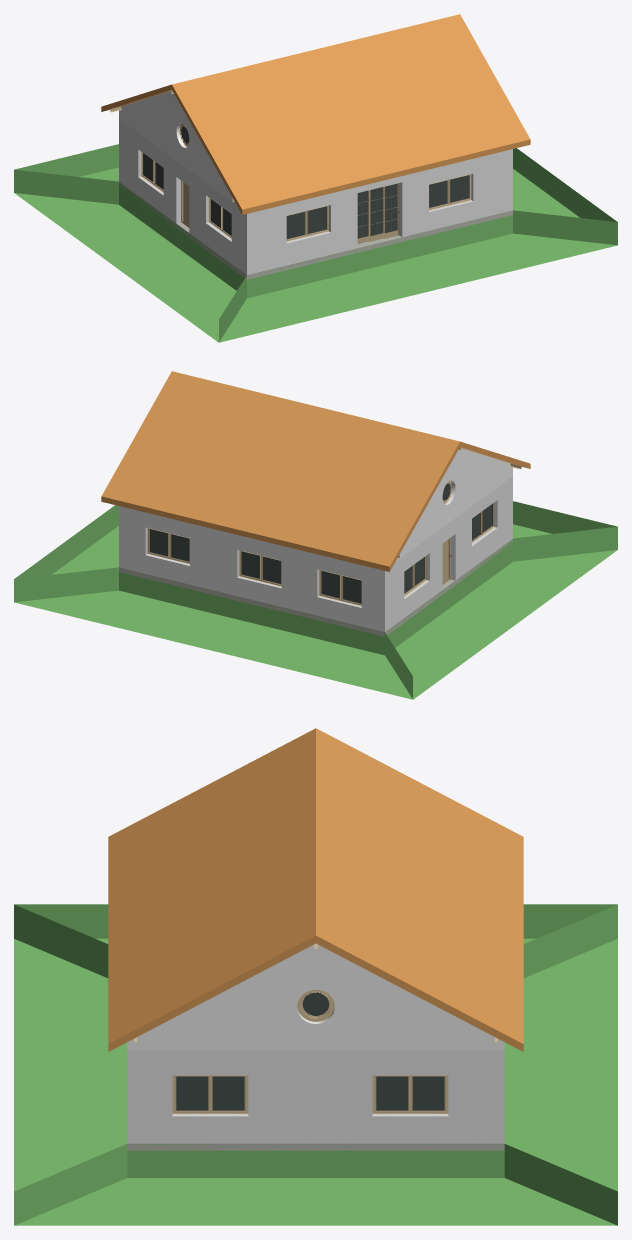
File: sample.glb
3 renders of one model, top to bottom at view 1: azimuth 30°, elevation 25°; view 2: azimuth 150°, elevation 25°; view 3: azimuth 270°, elevation 25°, orthographic. The views are drawn at different scales.
Visible parts, largest first — view 1: 59753_Dach2, 389_Gelaende, 27421_WandExtERDG4, 21966_WandExtERDG1, 60012_WandExtOG1, 34509_Bodenplatte, 31079_Terrassentuer, 27833_EGFenster4, 28113_EGFenster5, 23944_EGFenster7, 23024_EGFenster6, 59553_Dach1; view 2: 59553_Dach1, 389_Gelaende, 32407_WandExtERDG2, 21966_WandExtERDG1, 60012_WandExtOG1, 34509_Bodenplatte, 33109_EGFenster2, 32829_EGFenster1, 33389_EGFenster3, 23024_EGFenster6, 23944_EGFenster7, 59753_Dach2; view 3: 389_Gelaende, 59753_Dach2, 59553_Dach1, 31470_WandExtERDG3, 67828_WandExtOG3, 32098_EGFenster9, 31818_EGFenster8, 34509_Bodenplatte, 74280_OGFenster1.
Part boxes in pixels (left/top/right/bottom): 59753_Dach2: left=172, top=14, right=530, bottom=214; 389_Gelaende: left=14, top=144, right=617, bottom=342; 27421_WandExtERDG4: left=247, top=149, right=512, bottom=274; 21966_WandExtERDG1: left=119, top=119, right=246, bottom=274; 60012_WandExtOG1: left=119, top=91, right=236, bottom=204; 34509_Bodenplatte: left=119, top=182, right=512, bottom=279; 31079_Terrassentuer: left=357, top=183, right=399, bottom=243; 27833_EGFenster4: left=286, top=205, right=329, bottom=241; 28113_EGFenster5: left=429, top=174, right=471, bottom=210; 23944_EGFenster7: left=208, top=197, right=231, bottom=238; 23024_EGFenster6: left=141, top=151, right=163, bottom=192; 59553_Dach1: left=101, top=84, right=171, bottom=111; 59553_Dach1: left=101, top=371, right=459, bottom=571; 389_Gelaende: left=14, top=501, right=617, bottom=699; 32407_WandExtERDG2: left=119, top=506, right=384, bottom=631; 21966_WandExtERDG1: left=385, top=476, right=512, bottom=631; 60012_WandExtOG1: left=395, top=448, right=512, bottom=561; 34509_Bodenplatte: left=119, top=539, right=512, bottom=636; 33109_EGFenster2: left=239, top=550, right=281, bottom=586; 32829_EGFenster1: left=319, top=570, right=361, bottom=605; 33389_EGFenster3: left=147, top=528, right=189, bottom=564; 23024_EGFenster6: left=404, top=555, right=427, bottom=596; 23944_EGFenster7: left=472, top=503, right=494, bottom=542; 59753_Dach2: left=460, top=441, right=530, bottom=468; 389_Gelaende: left=14, top=904, right=617, bottom=1225; 59753_Dach2: left=108, top=728, right=315, bottom=1051; 59553_Dach1: left=316, top=728, right=523, bottom=1051; 31470_WandExtERDG3: left=127, top=1051, right=504, bottom=1143; 67828_WandExtOG3: left=127, top=944, right=504, bottom=1051; 32098_EGFenster9: left=172, top=1075, right=248, bottom=1114; 31818_EGFenster8: left=372, top=1075, right=448, bottom=1114; 34509_Bodenplatte: left=127, top=1143, right=504, bottom=1150; 74280_OGFenster1: left=297, top=989, right=334, bottom=1021.
Size of the model in its own units: 18 by 7.32 by 16.
